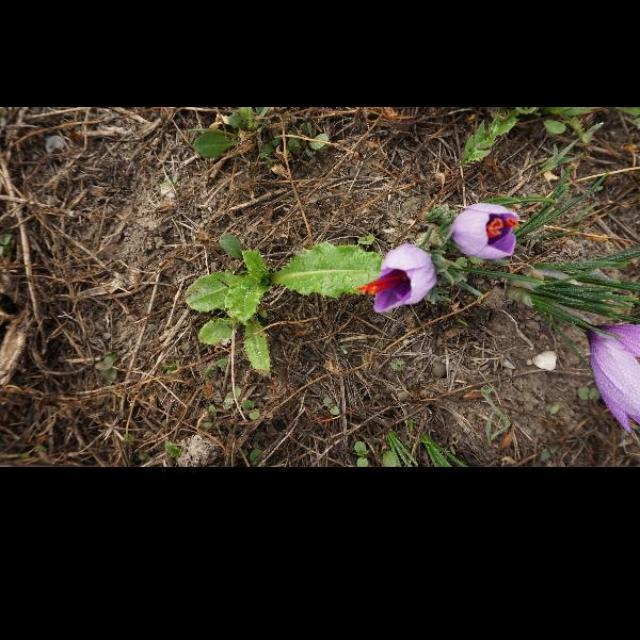flower: (586, 324, 640, 434), (356, 244, 438, 314), (452, 204, 522, 260)
